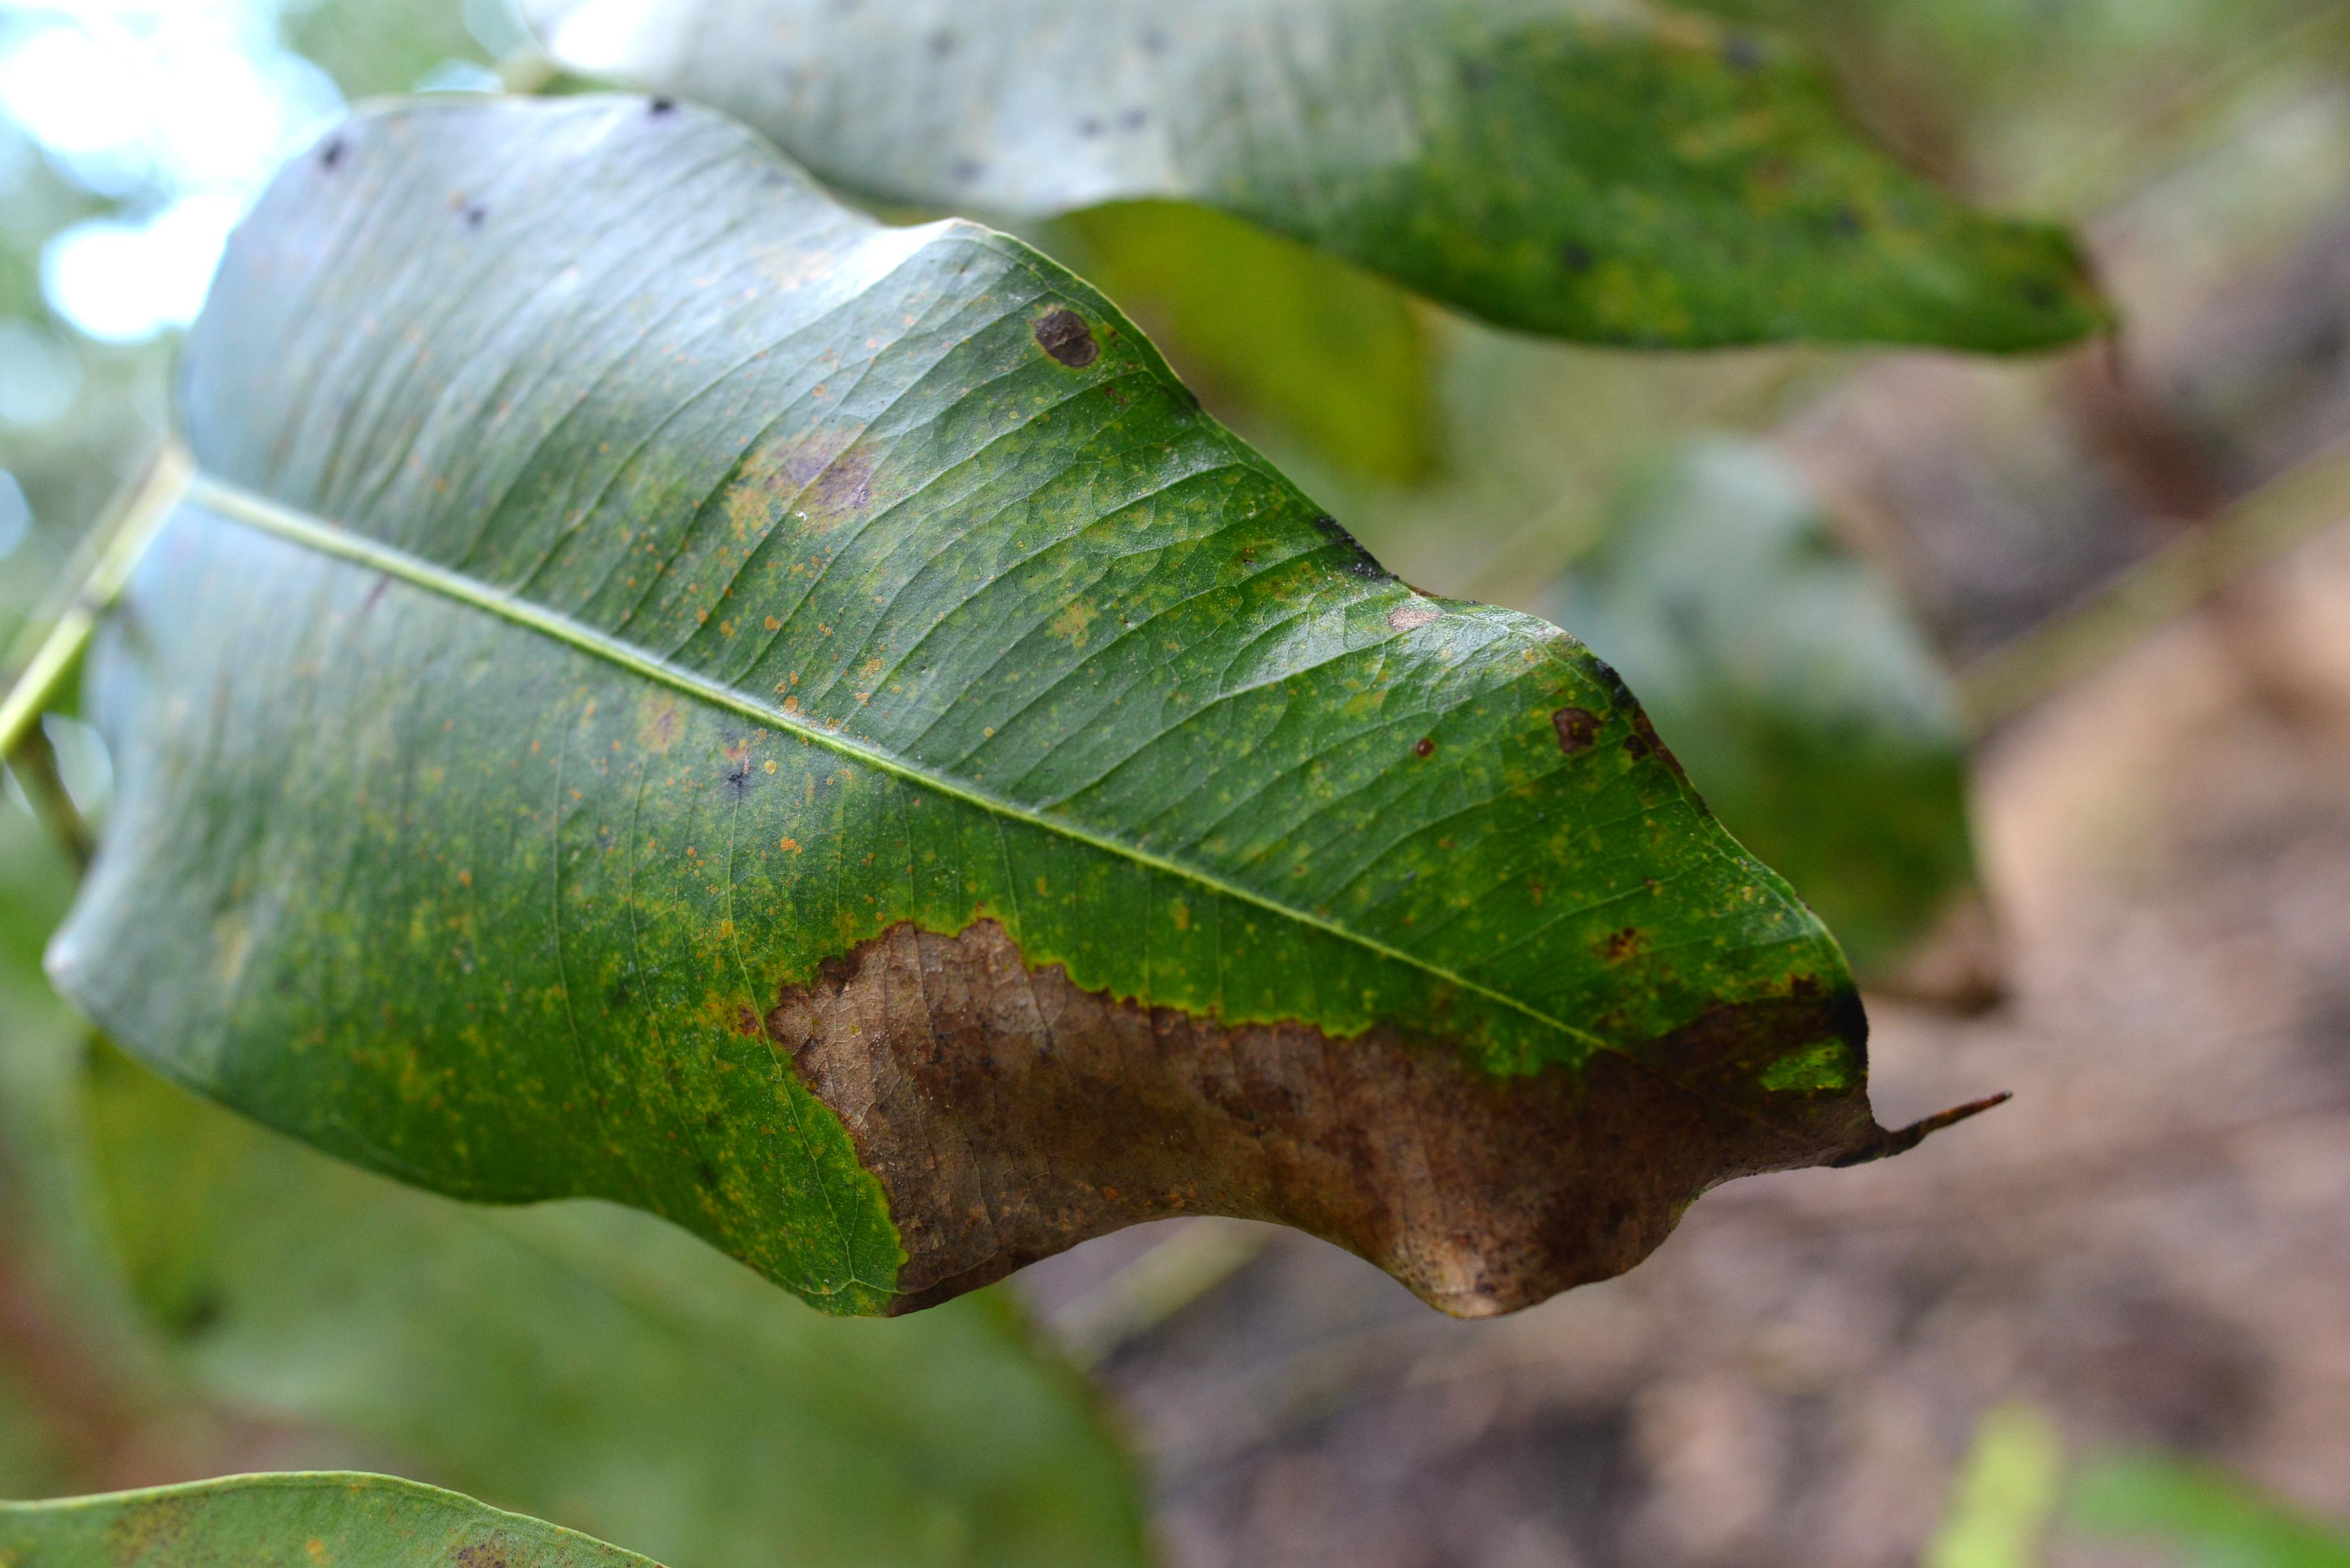Cylindrocladium: (763, 917, 1846, 1332)
